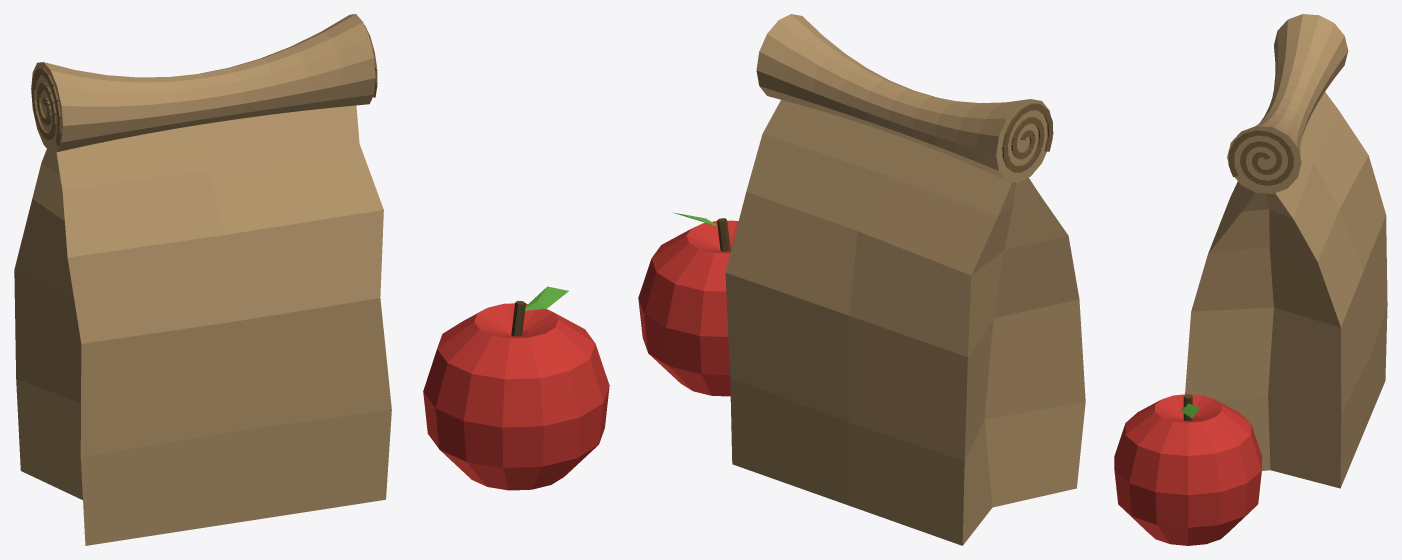
File: item-packed-lunch.glb
The picture shows the model from 3 angles, left to right: view 1: azimuth 30°, elevation 25°; view 2: azimuth 150°, elevation 25°; view 3: azimuth 270°, elevation 25°; orthographic projection. The views are drawn at different scales.
Parts seen in each view (by area): view 1: packedLunch; view 2: packedLunch; view 3: packedLunch.
Boxes of the visible parts, x1,y1,x2,y2 form: packedLunch: (14, 14, 609, 545); packedLunch: (638, 14, 1085, 545); packedLunch: (1114, 14, 1387, 545).
Bounding box in the file's own units: 0.23 × 0.1987 × 0.1372.
